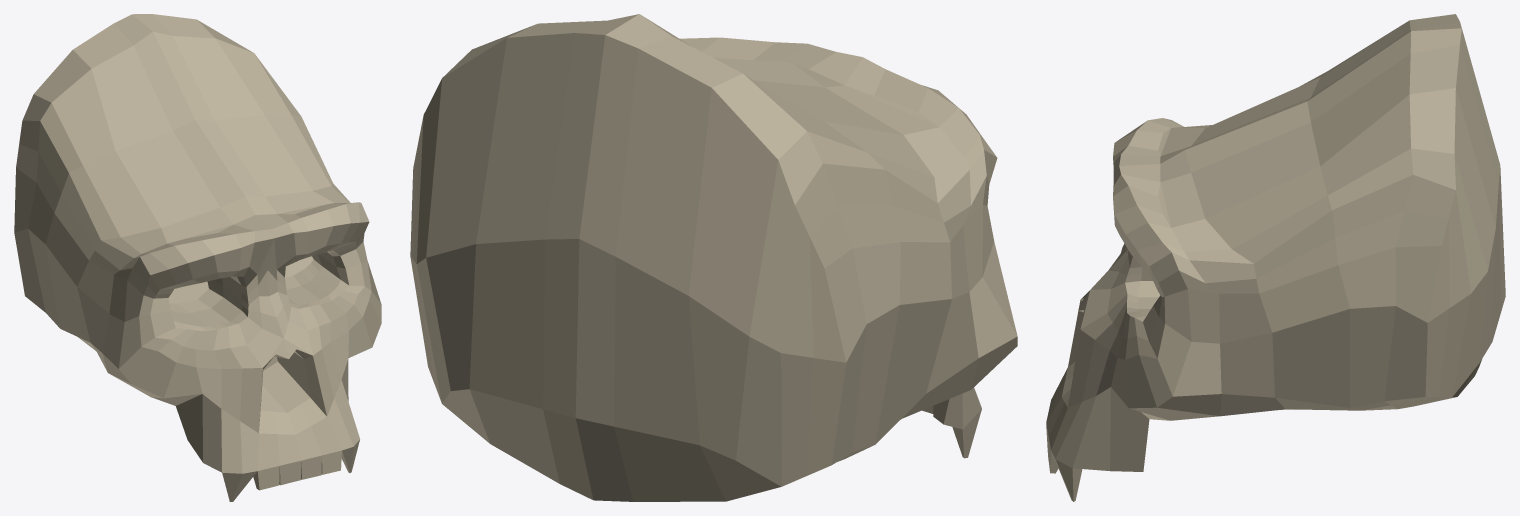
File: king kong skull.fbx
The picture shows the model from 3 angles, left to right: view 1: azimuth 30°, elevation 25°; view 2: azimuth 150°, elevation 25°; view 3: azimuth 270°, elevation 25°; orthographic projection. The views are drawn at different scales.
Parts seen in each view (by area): view 1: Skull; view 2: Skull; view 3: Skull.
Boxes of the visible parts, bbox=[...] form: Skull: bbox=[14, 14, 381, 501]; Skull: bbox=[410, 14, 1017, 501]; Skull: bbox=[1046, 14, 1505, 501].
Bounding box in the file's own units: 128 × 164 × 157.
